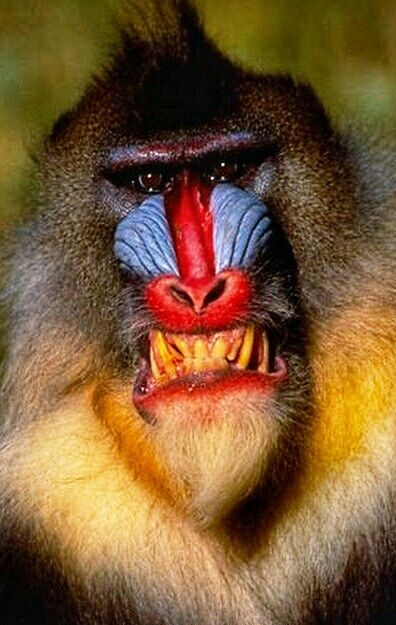Mandrill: (17, 55, 364, 610)
